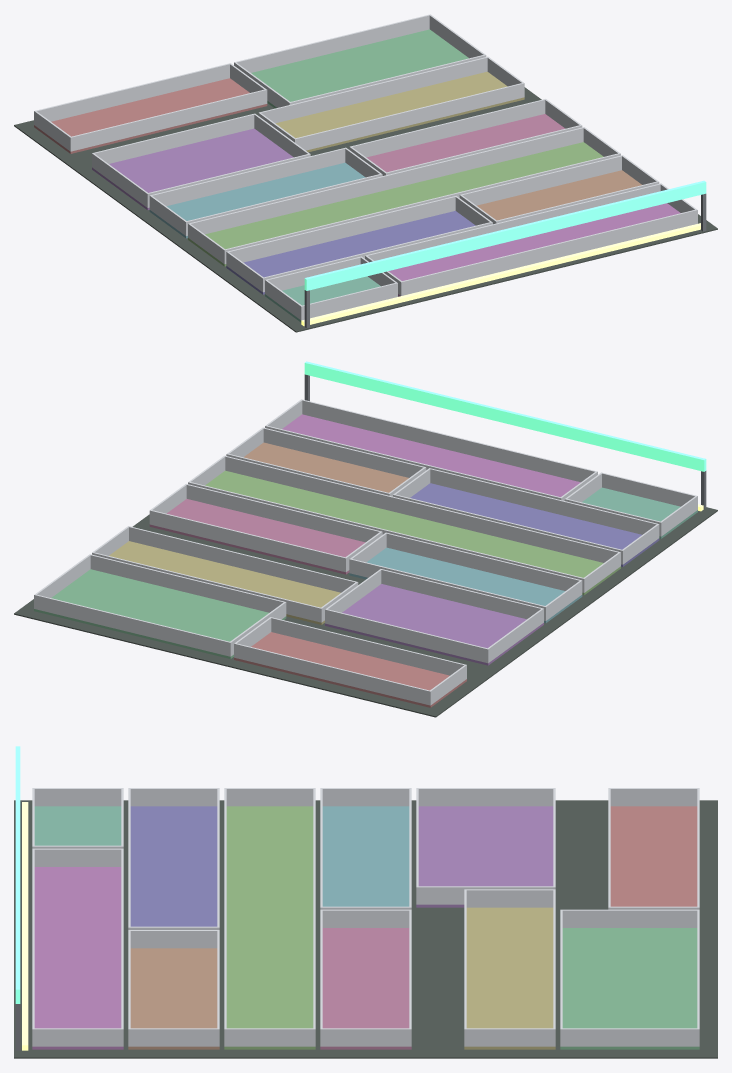
File: hall-surveyors.glb
3 views of the same model, one above another, from view 1: azimuth 30°, elevation 25°; view 2: azimuth 150°, elevation 25°; view 3: azimuth 270°, elevation 25° (orthographic). The views are drawn at different scales.
Visible parts, largest first — view 1: Construction Surveyors; view 2: Construction Surveyors; view 3: Construction Surveyors.
Part boxes in pixels (x1,y1,x2,y2): Construction Surveyors: (14, 14, 717, 332); Construction Surveyors: (14, 361, 717, 717); Construction Surveyors: (14, 746, 717, 1058).
Bounding box in the file's own units: 38 × 4.3 × 44.
